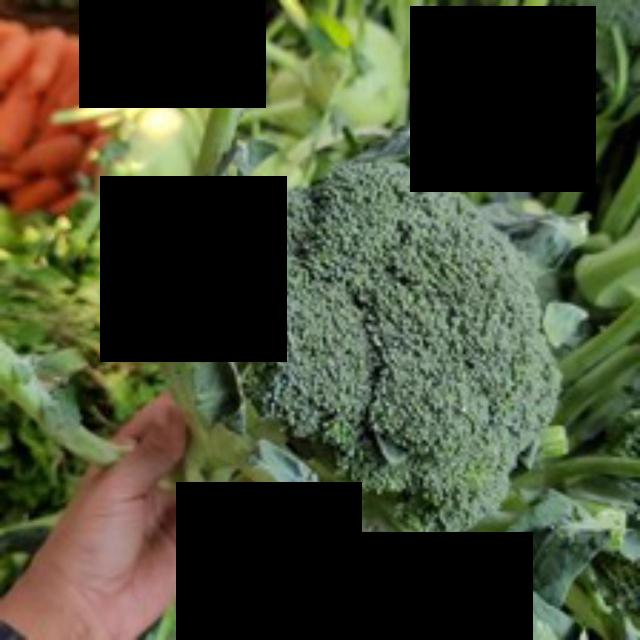broccoli: (156, 138, 582, 548)
